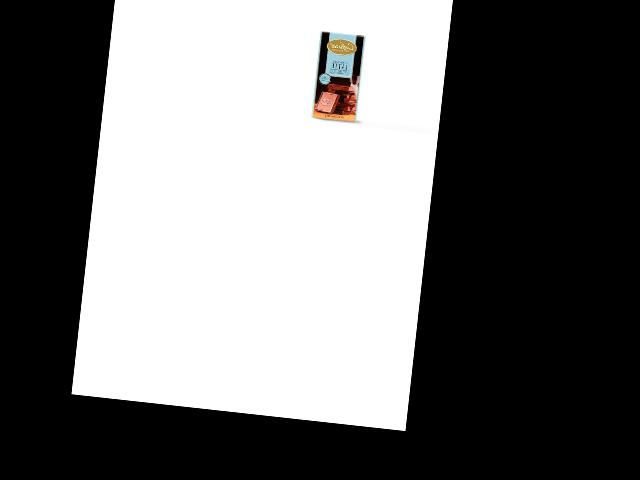chocolate: (310, 30, 367, 123)
